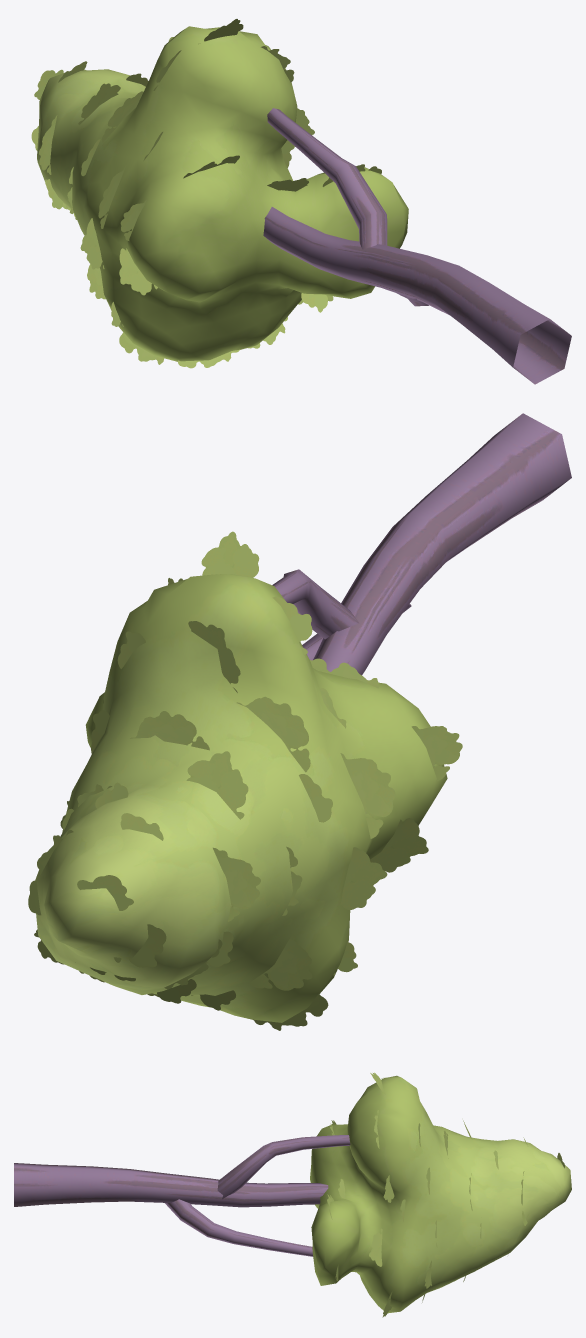
Rendered from Tree_Fluffy_A.fbx.
The picture shows the model from 3 angles, top to bottom: view 1: azimuth 30°, elevation 25°; view 2: azimuth 150°, elevation 25°; view 3: azimuth 270°, elevation 25°; orthographic projection. The views are drawn at different scales.
Parts seen in each view (by area): view 1: Foliage_A, Tree_Fluffy_A, Foliage_A_Alpha; view 2: Foliage_A, Foliage_A_Alpha, Tree_Fluffy_A; view 3: Foliage_A, Tree_Fluffy_A, Foliage_A_Alpha.
Boxes of the visible parts, bbox=[...] form: Foliage_A: bbox=[37, 26, 408, 361]; Tree_Fluffy_A: bbox=[263, 108, 571, 384]; Foliage_A_Alpha: bbox=[31, 19, 381, 368]; Foliage_A: bbox=[35, 574, 447, 1022]; Foliage_A_Alpha: bbox=[28, 531, 462, 1030]; Tree_Fluffy_A: bbox=[272, 413, 571, 675]; Foliage_A: bbox=[310, 1075, 571, 1313]; Tree_Fluffy_A: bbox=[14, 1135, 350, 1256]; Foliage_A_Alpha: bbox=[327, 1072, 564, 1317].
Size of the model in its own units: 838 by 969 by 2006.
Materials: 3 (3 with a texture image).
